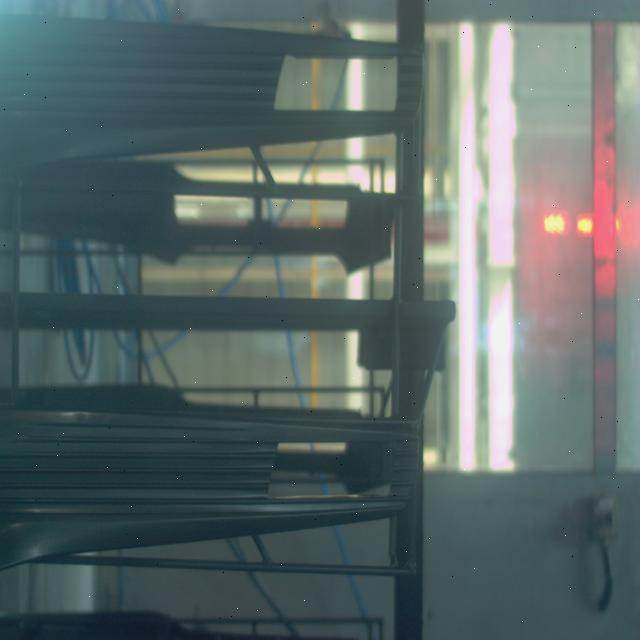Non_primered: (0, 408, 421, 566), (1, 16, 427, 156)
